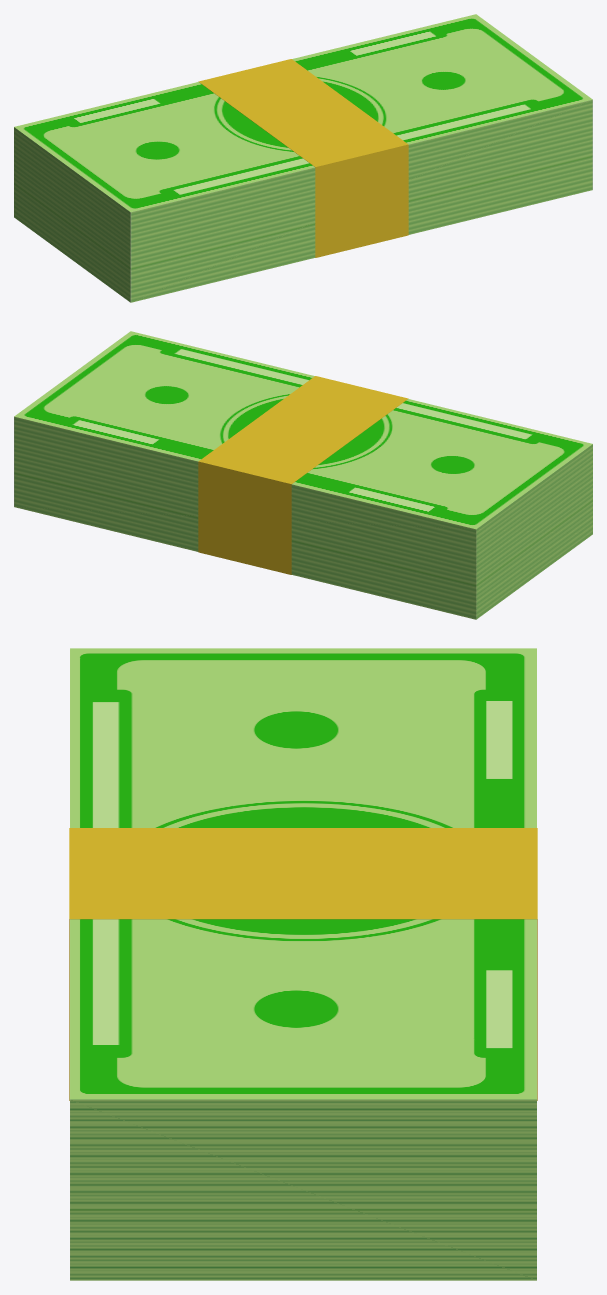
File: Money_bill_whole.fbx
3 renders of one model, top to bottom at view 1: azimuth 30°, elevation 25°; view 2: azimuth 150°, elevation 25°; view 3: azimuth 270°, elevation 25°, orthographic. The views are drawn at different scales.
Visible parts, largest first — view 1: Money_whole; view 2: Money_whole; view 3: Money_whole.
Boxes of the visible parts, x1,y1,x2,y2 form: Money_whole: (14, 14, 592, 302); Money_whole: (14, 331, 592, 619); Money_whole: (69, 648, 537, 1280).
Size of the model in its own units: 800 by 150 by 351.
